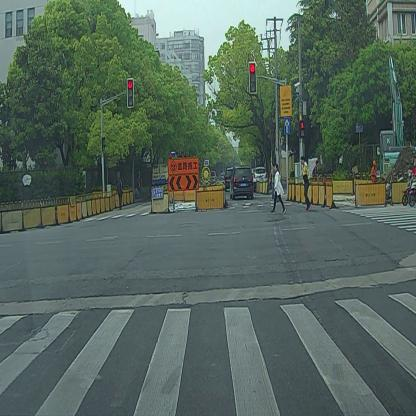Red Light: (248, 59, 259, 96), (126, 75, 135, 111)
